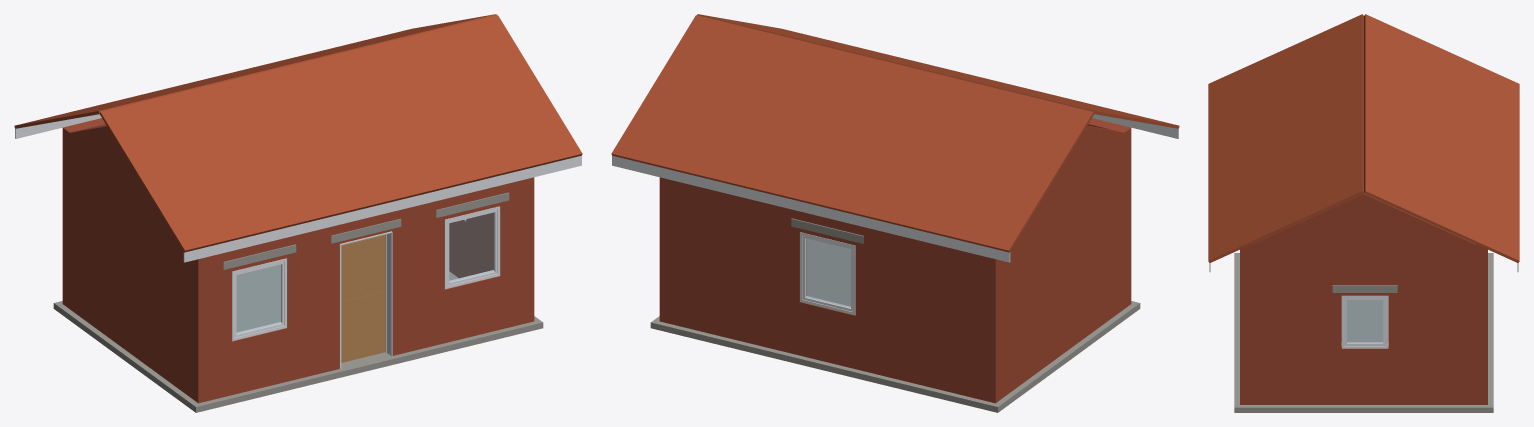
File: house_brick_vn.far.glb
3 views of the same model, side by side, from view 1: azimuth 30°, elevation 25°; view 2: azimuth 150°, elevation 25°; view 3: azimuth 270°, elevation 25° (orthographic). The views are drawn at different scales.
Visible parts, largest first — view 1: house_brick_vn, slab_door_front_2, sash_window_front_3, sash_window_front_1; view 2: house_brick_vn, sash_window_back_1; view 3: house_brick_vn, sash_window_left_1.
Boxes of the visible parts, box(x1,y1,x2,y2) form: house_brick_vn: box(14, 14, 582, 412); slab_door_front_2: box(341, 234, 385, 362); sash_window_front_3: box(447, 209, 497, 285); sash_window_front_1: box(234, 261, 284, 337); house_brick_vn: box(611, 14, 1179, 412); sash_window_back_1: box(803, 235, 852, 311); house_brick_vn: box(1208, 14, 1519, 412); sash_window_left_1: box(1344, 298, 1385, 345).
Size of the model in its own units: 7.1 by 4.36 by 5.28.
